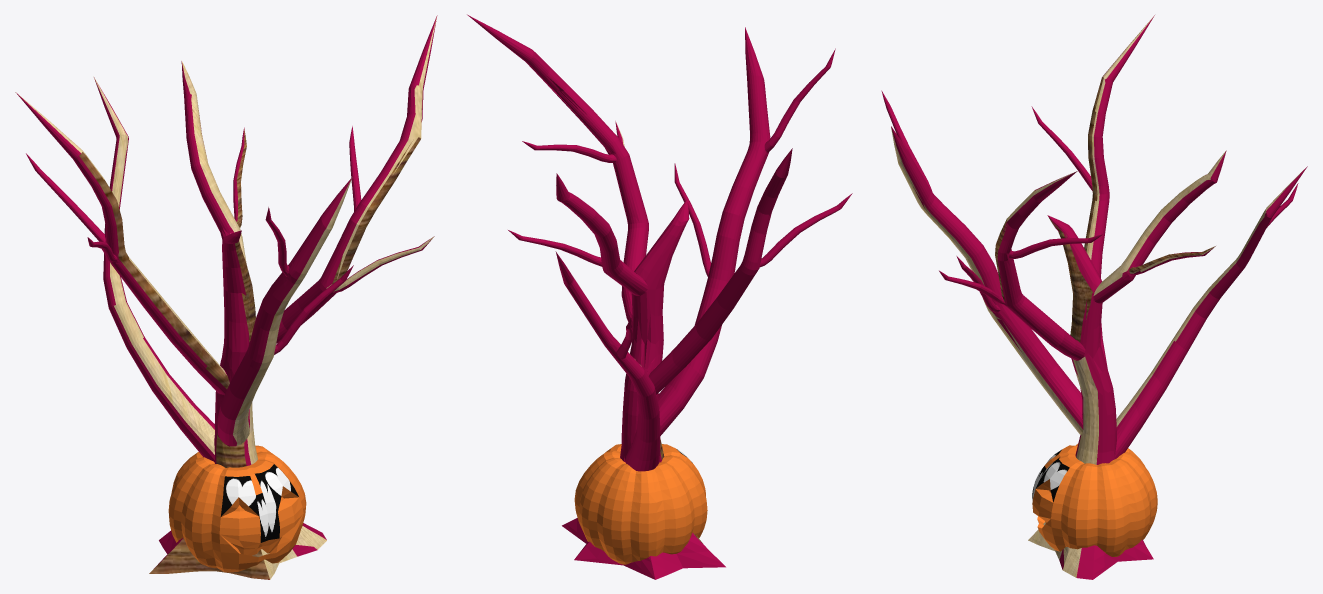
The model's file is bundeva i drvo.gltf.
3 renders of one model, left to right at view 1: azimuth 30°, elevation 25°; view 2: azimuth 150°, elevation 25°; view 3: azimuth 270°, elevation 25°, orthographic. The views are drawn at different scales.
Bounding box in the file's own units: 0.0943 × 0.118 × 0.0999.
4 materials, 3 textured.
